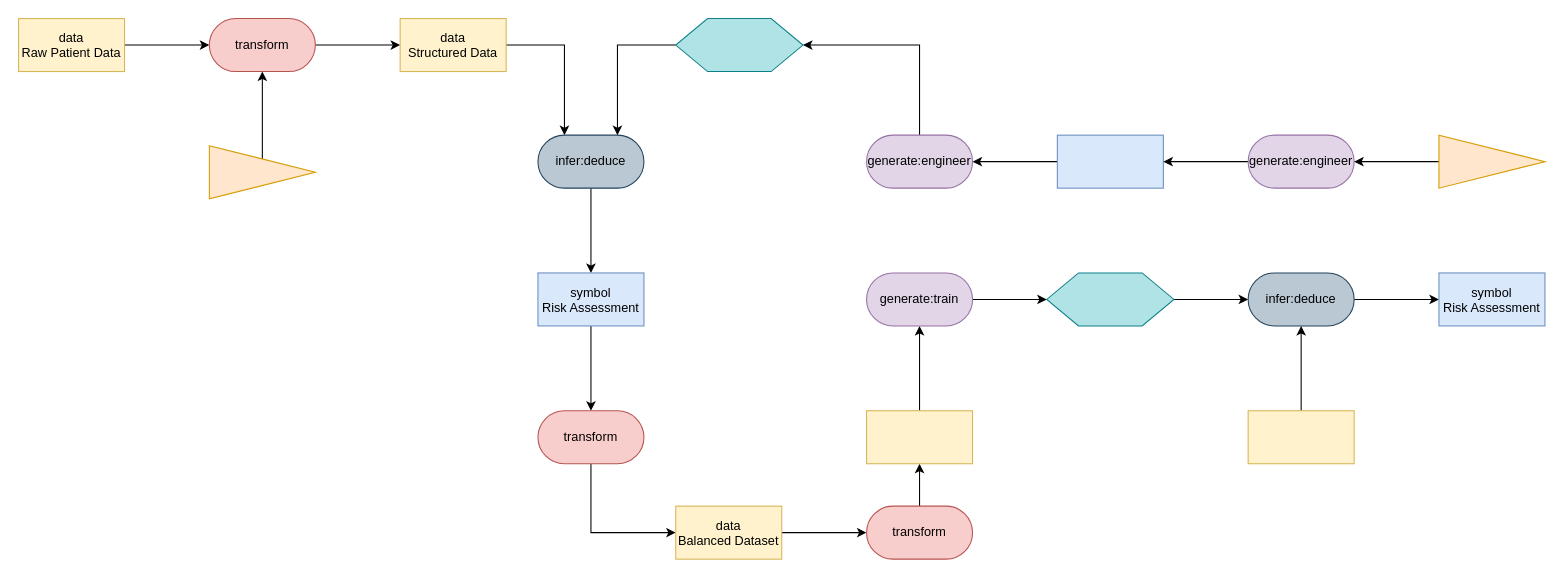
Image size: 1563x578. Some labels were removed from this diagram. The shapes that lost their labels are listed below. From the top down, each one's centre as x and y in pixels, then its label:
At point 739,44: "model:semantic Cascaded Expert Systems".
At point 261,172: "actor".
At point 1109,161: "symbol Fuzzy Rules".
At point 1491,161: "actor Domain Experts".
At point 1110,299: "model:statistical ML Model".
At point 919,437: "data Latent Factors".
At point 1300,437: "data Patient Data".
